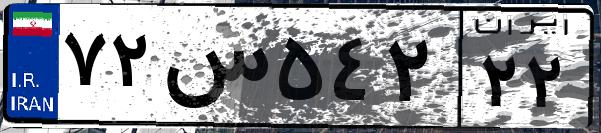2: (385, 28, 445, 110), (475, 38, 525, 113), (525, 38, 570, 115), (110, 28, 158, 98)
4: (330, 28, 385, 110)
5: (270, 28, 330, 110)
7: (57, 26, 110, 100)
س: (158, 20, 270, 120)
